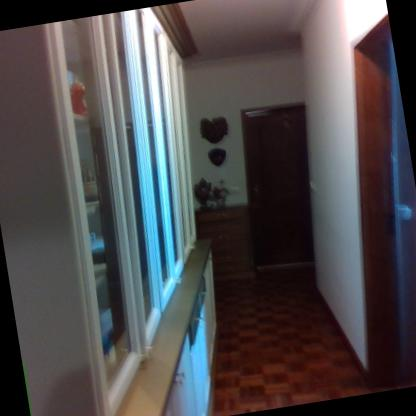closed: (232, 93, 344, 276)
